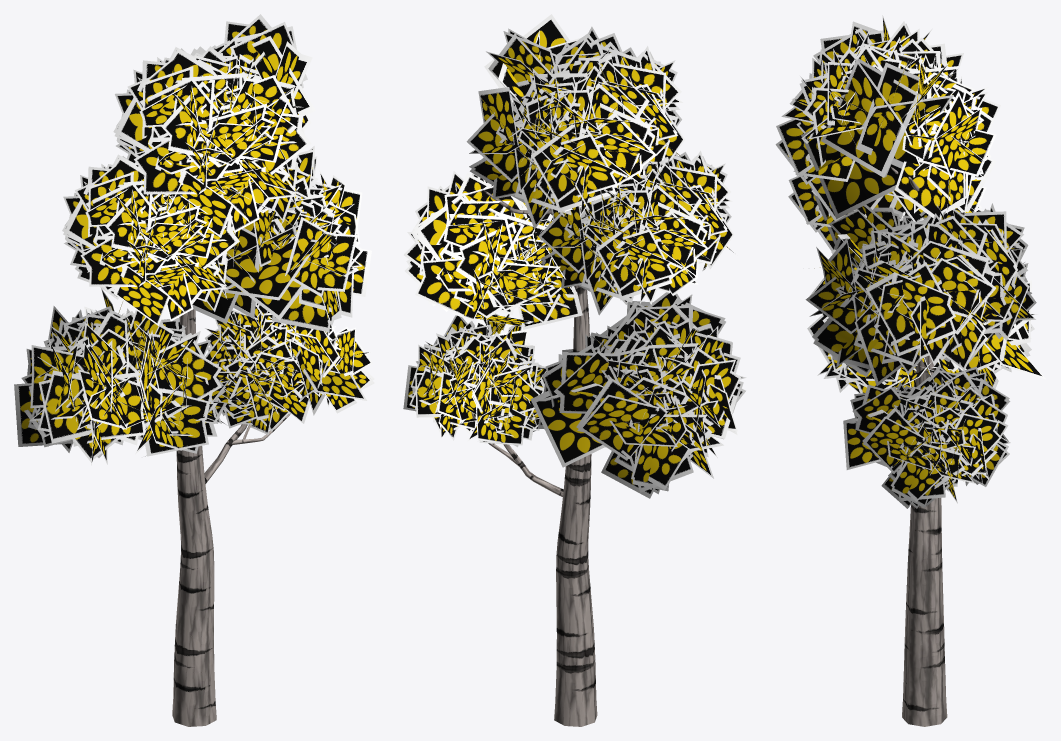
File: tree_birch.glb
3 views of the same model, side by side, from view 1: azimuth 30°, elevation 25°; view 2: azimuth 150°, elevation 25°; view 3: azimuth 270°, elevation 25° (orthographic). The views are drawn at different scales.
Visible parts, largest first — view 1: BirchTree_1; view 2: BirchTree_1; view 3: BirchTree_1.
Part boxes in pixels (x1,y1,x2,y2): BirchTree_1: [14, 14, 374, 726]; BirchTree_1: [403, 14, 746, 726]; BirchTree_1: [775, 15, 1045, 726].
Size of the model in its own units: 2.71 by 5.45 by 1.94.
2 materials, 2 textured.
